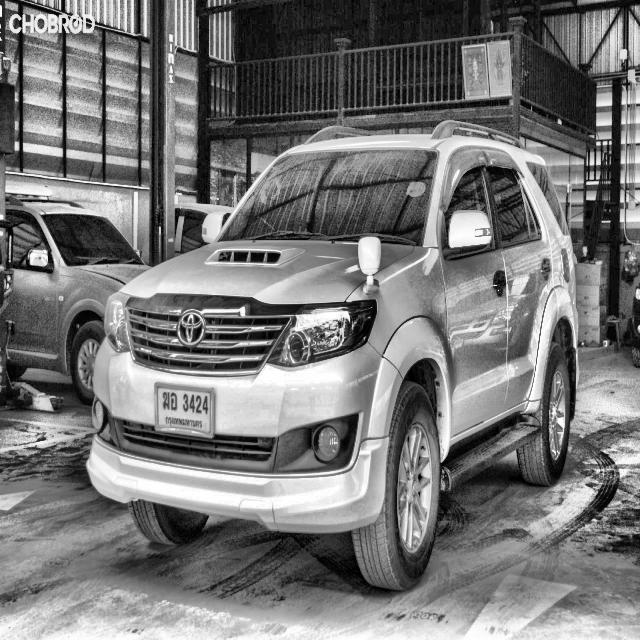license-plate: (154, 382, 215, 439)
